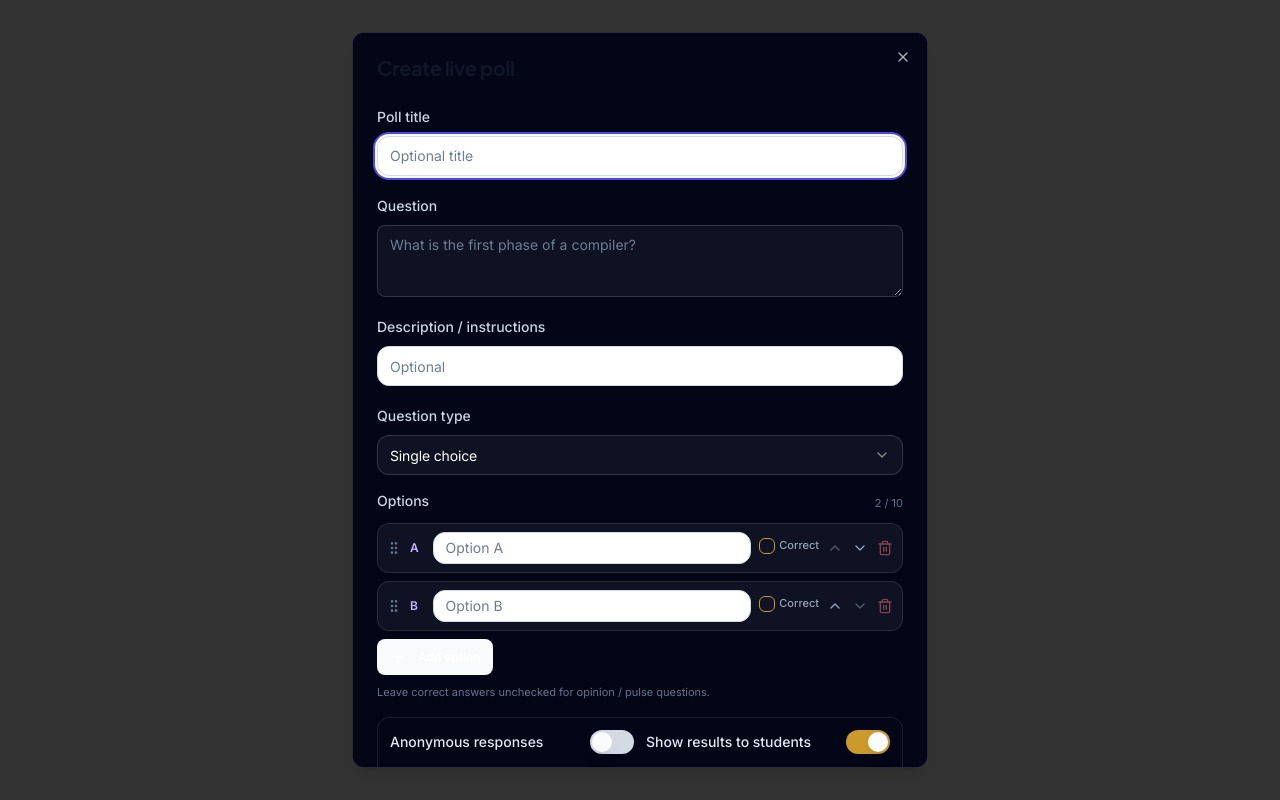
it: CreatePollDialog › adds and removes options dynamically
The image size is (1280, 800).
Expected: the field with placeholder "Option A" is shown, [433,532,751,564]
Expected: the field with placeholder "Option B" is shown, [433,590,751,622]
Click the button "Add option": [435, 657] box [377,639,493,675]
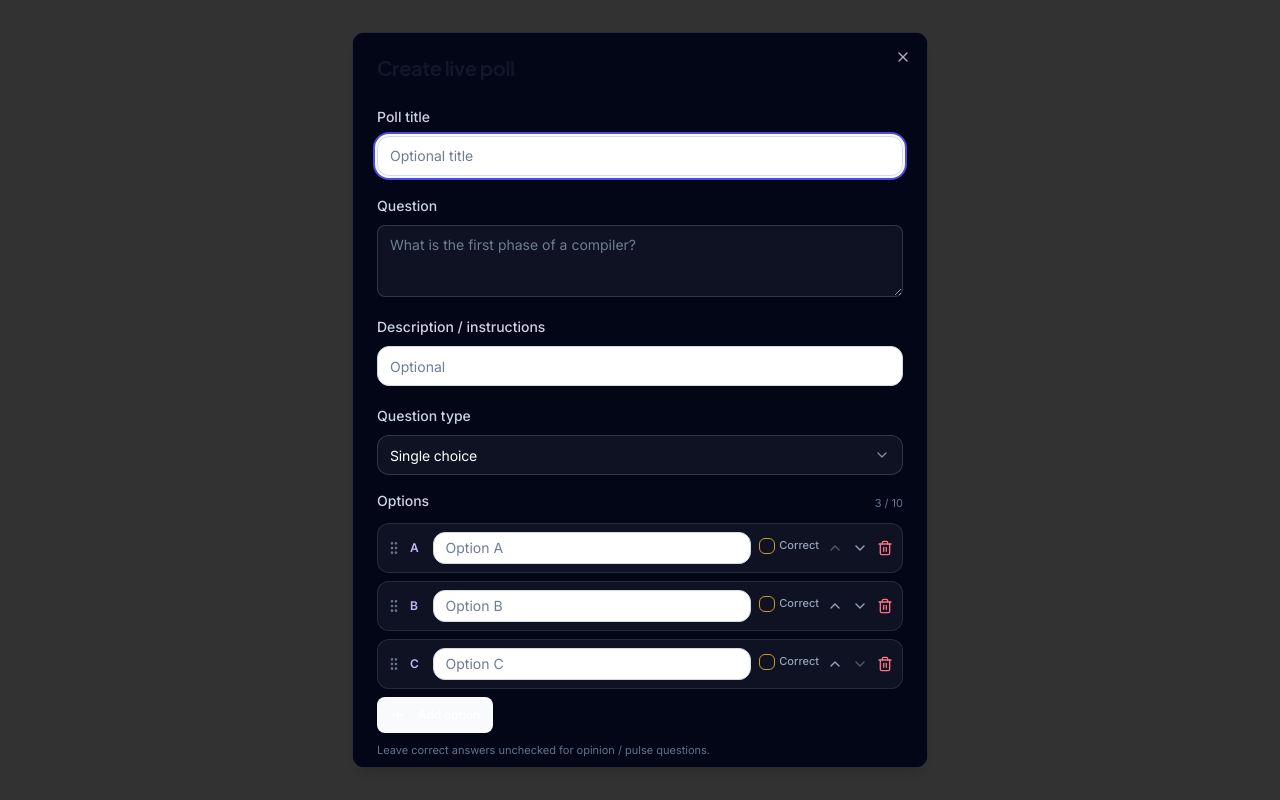
Expected: the field with placeholder "Option C" is shown, [433,648,751,680]
